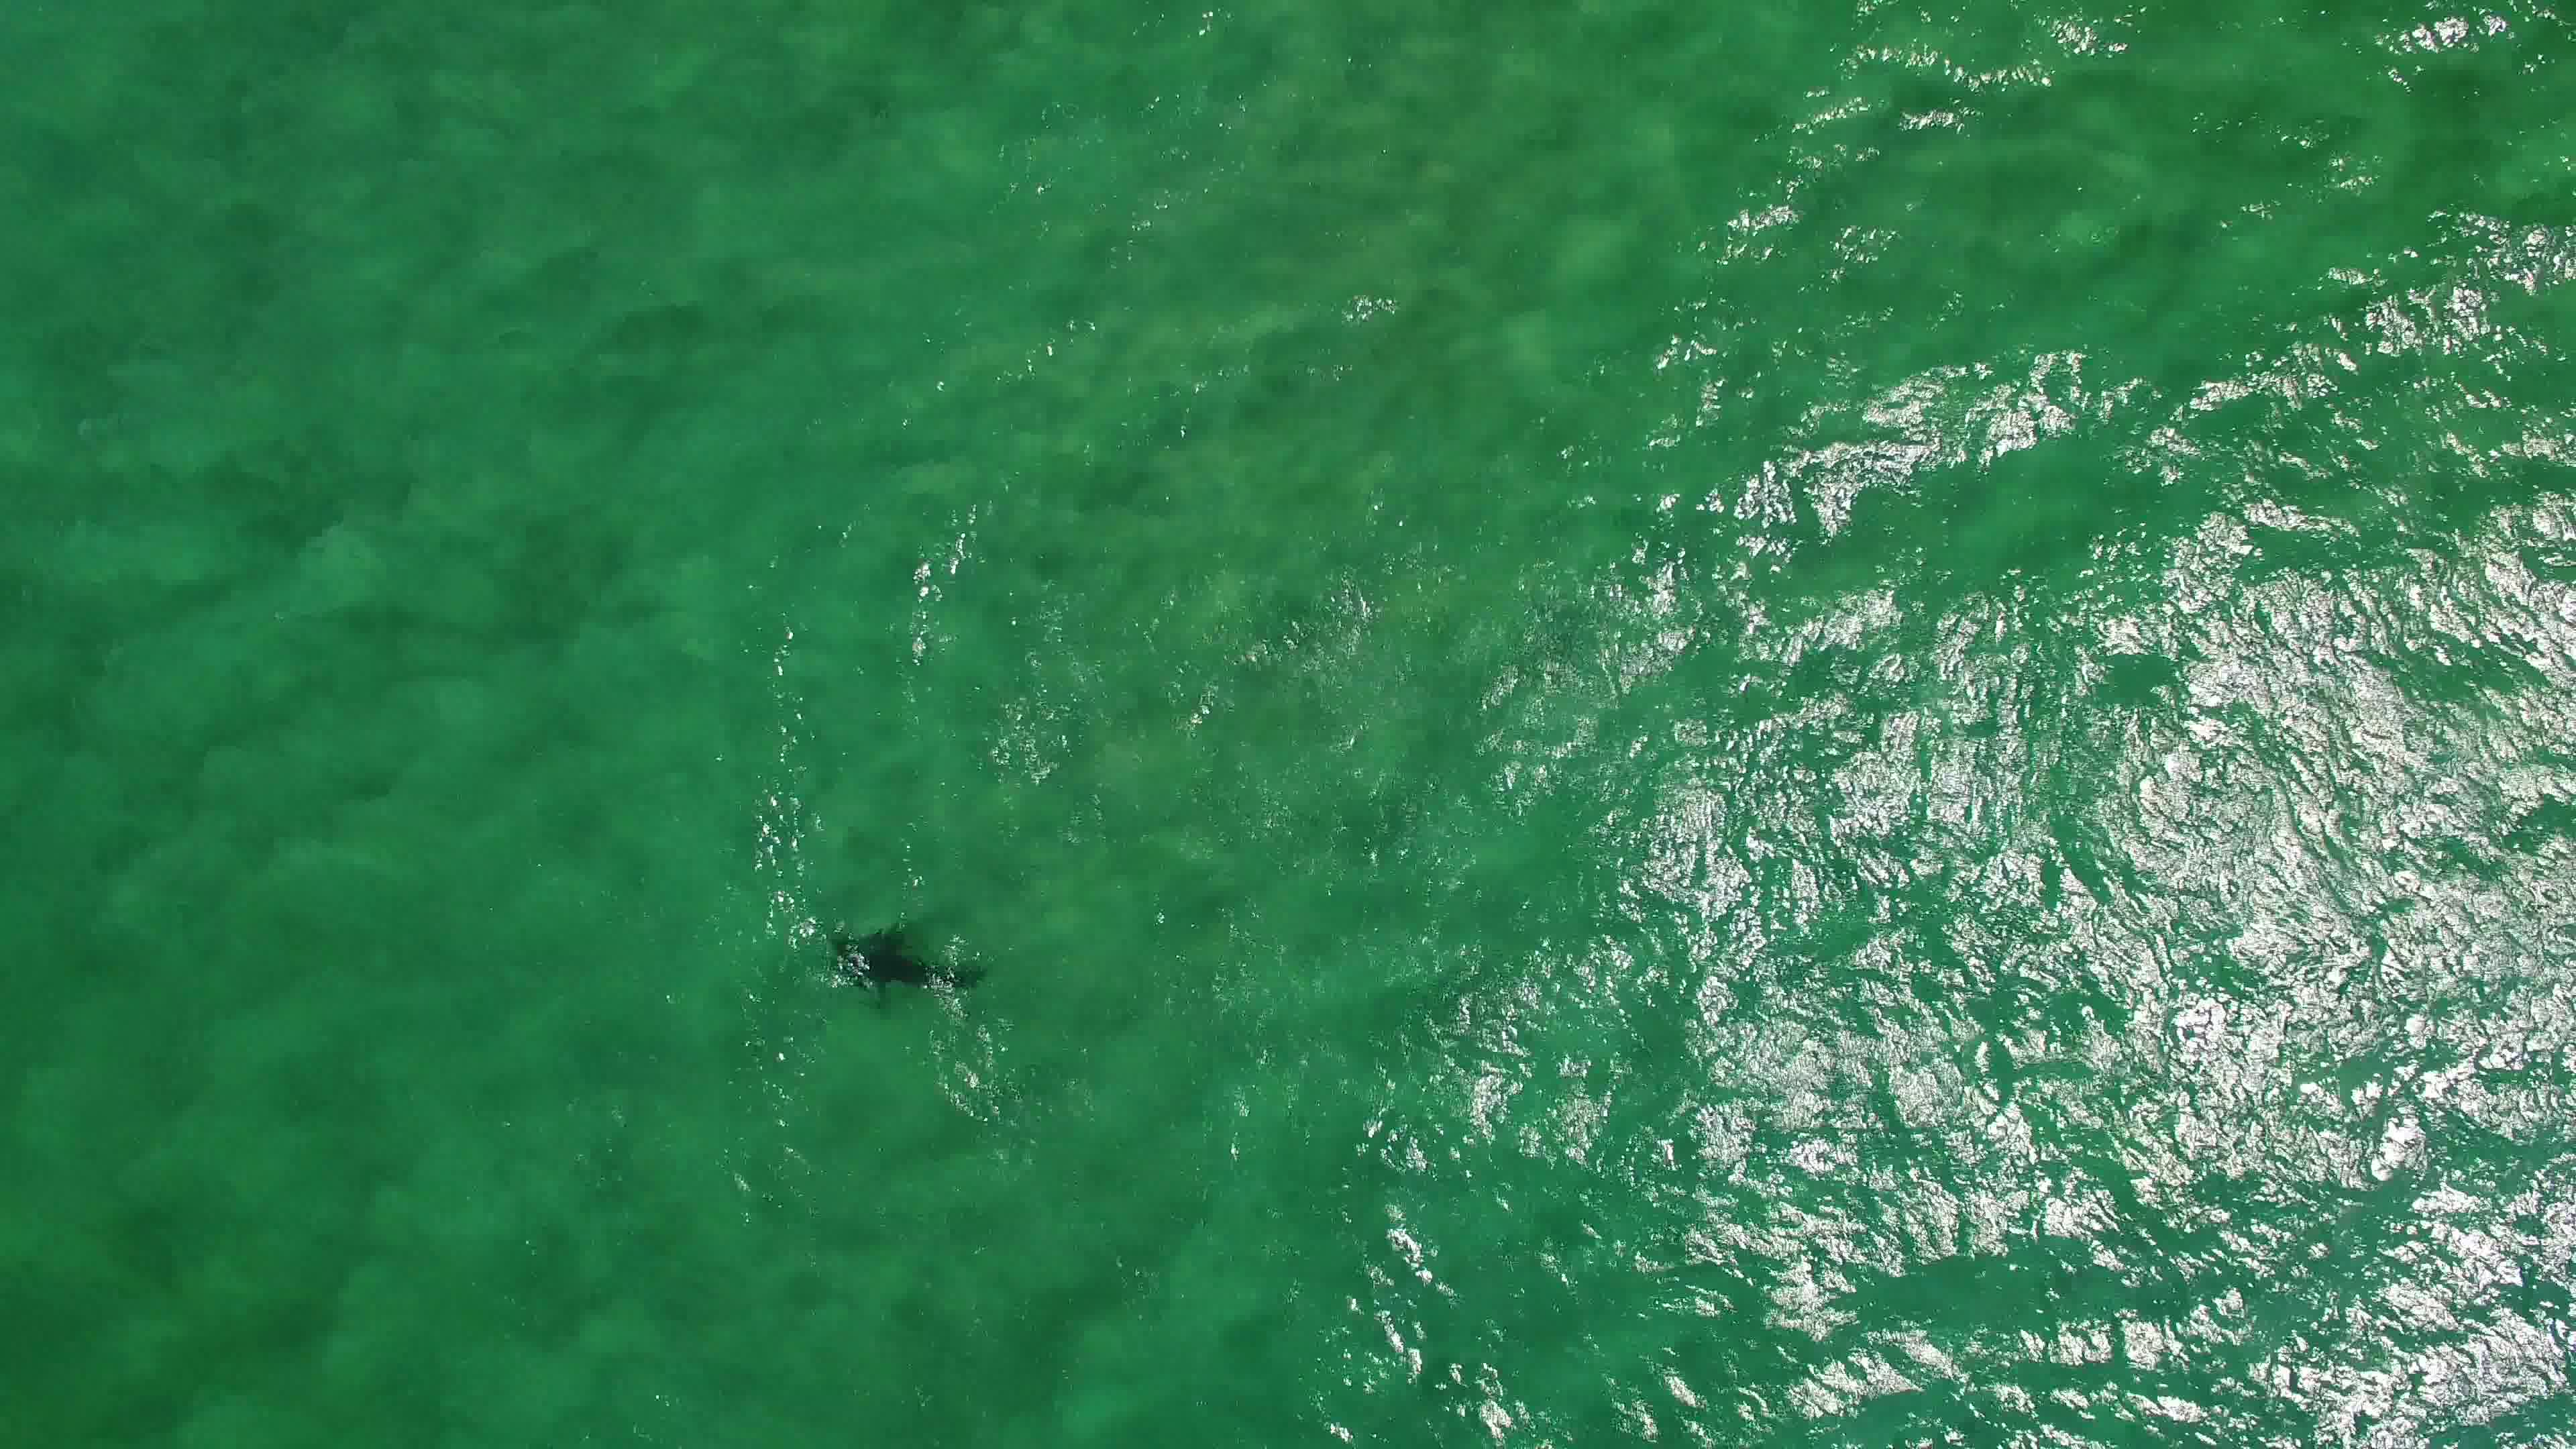shark: (824, 920, 994, 1014)
